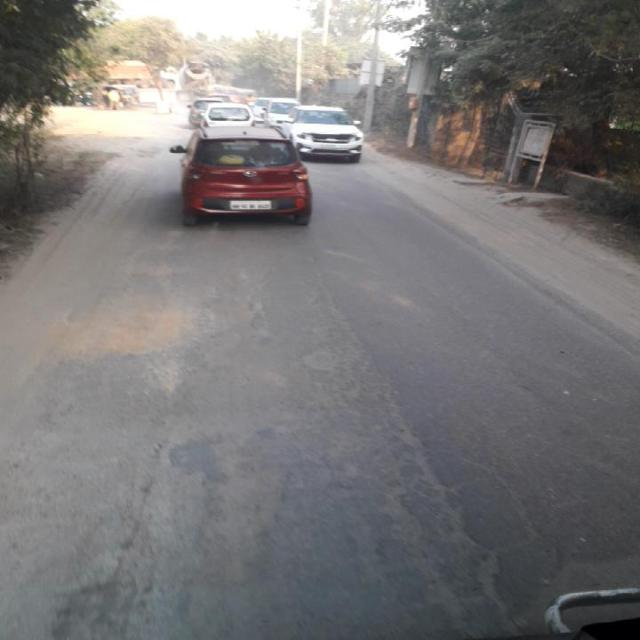D00: (316, 279, 492, 590)
D20: (46, 271, 495, 618)
